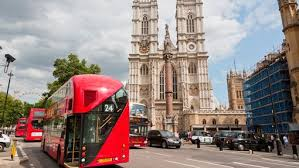bus: (40, 74, 130, 168), (129, 101, 149, 147), (24, 107, 47, 143), (16, 116, 25, 135)
